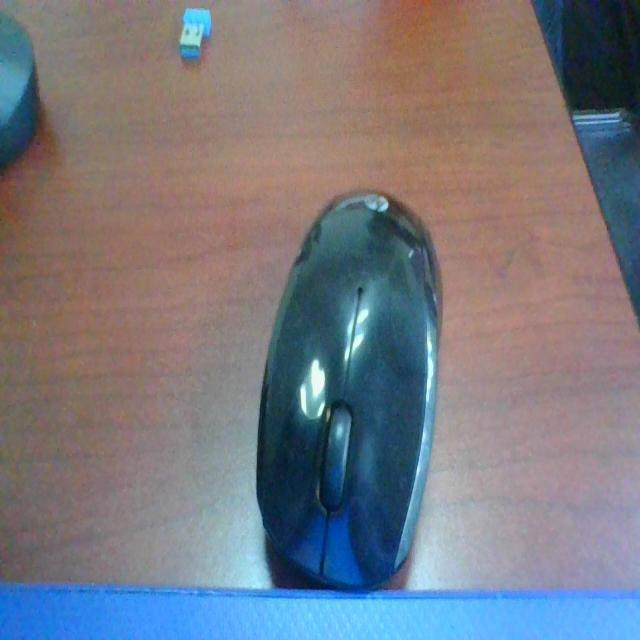Mouse: (243, 170, 472, 622)
